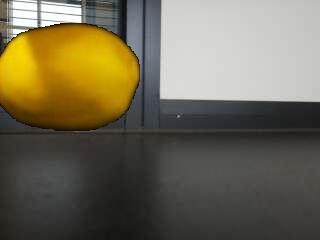Lemon: (0, 23, 140, 132)
